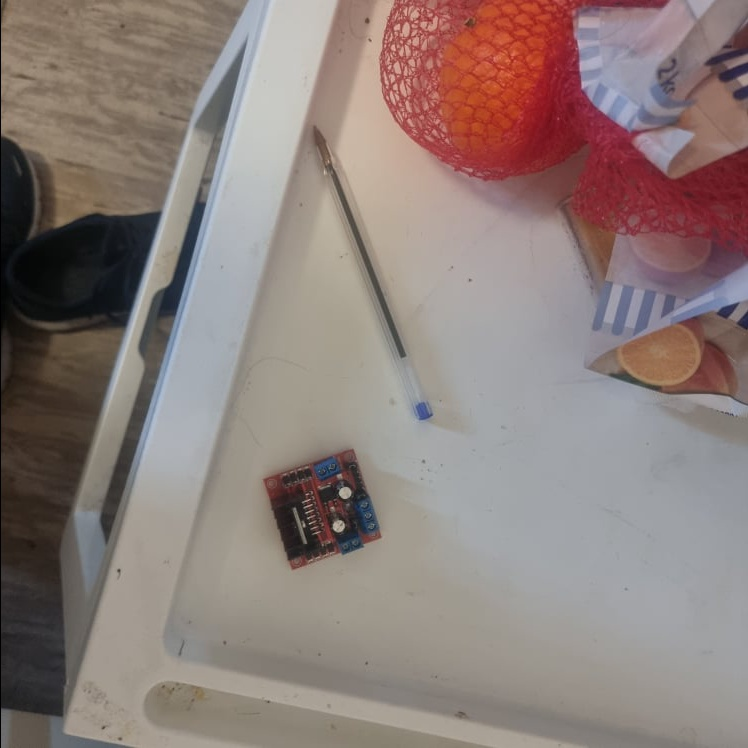MOTOR: (260, 447, 383, 576)
